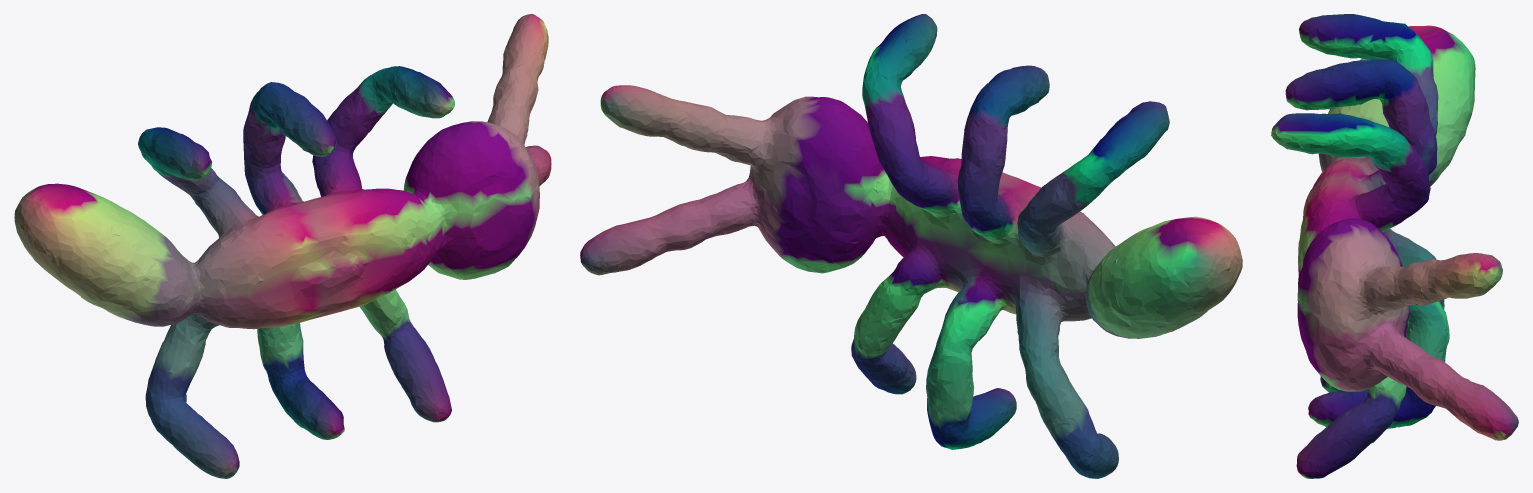
File: ant-8.off.obj
3 views of the same model, side by side, from view 1: azimuth 30°, elevation 25°; view 2: azimuth 150°, elevation 25°; view 3: azimuth 270°, elevation 25° (orthographic). The views are drawn at different scales.
Size of the model in its own units: 1.62 by 0.9957 by 0.5964.
